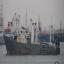fishing boat: (2, 7, 61, 61)
